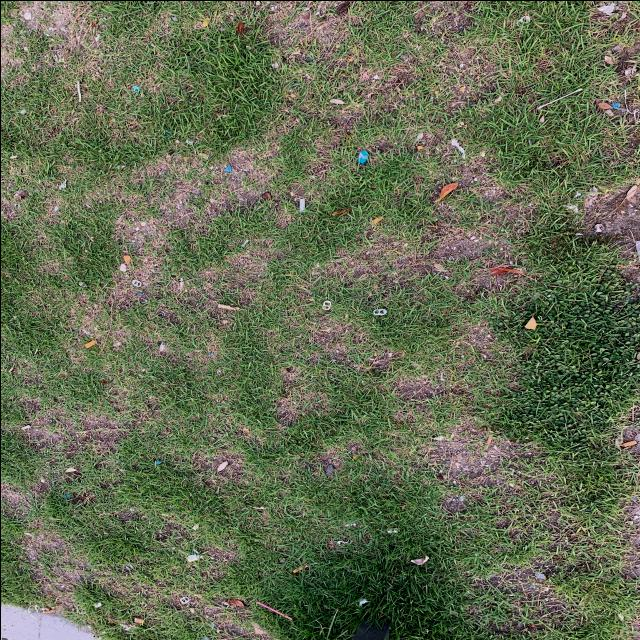Cigarette: (291, 562, 308, 572), (369, 215, 383, 226), (620, 438, 637, 446), (82, 338, 95, 348), (40, 608, 54, 613), (132, 617, 142, 623)
Other plastic bottle: (539, 87, 582, 108), (256, 600, 292, 620)
Pop tab: (516, 14, 530, 26), (320, 298, 331, 309), (178, 595, 190, 603), (373, 308, 387, 314), (131, 278, 140, 287)
Unlabeled litter: (356, 148, 368, 165)
